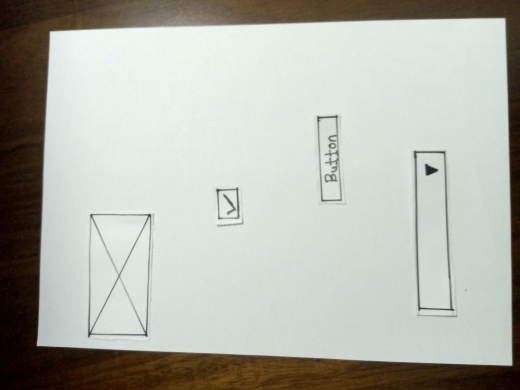button: (322, 116, 339, 203)
checkbox: (215, 192, 238, 221)
dropdown: (415, 153, 451, 310)
img: (91, 215, 148, 337)
